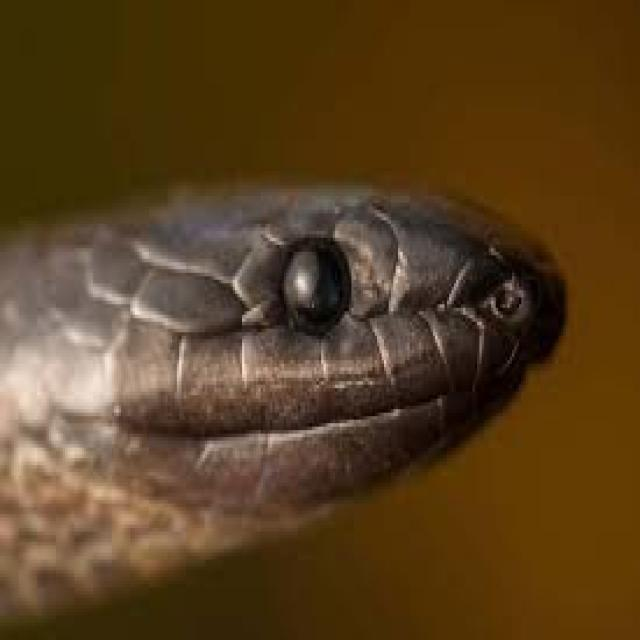Snake: (0, 162, 576, 627)
